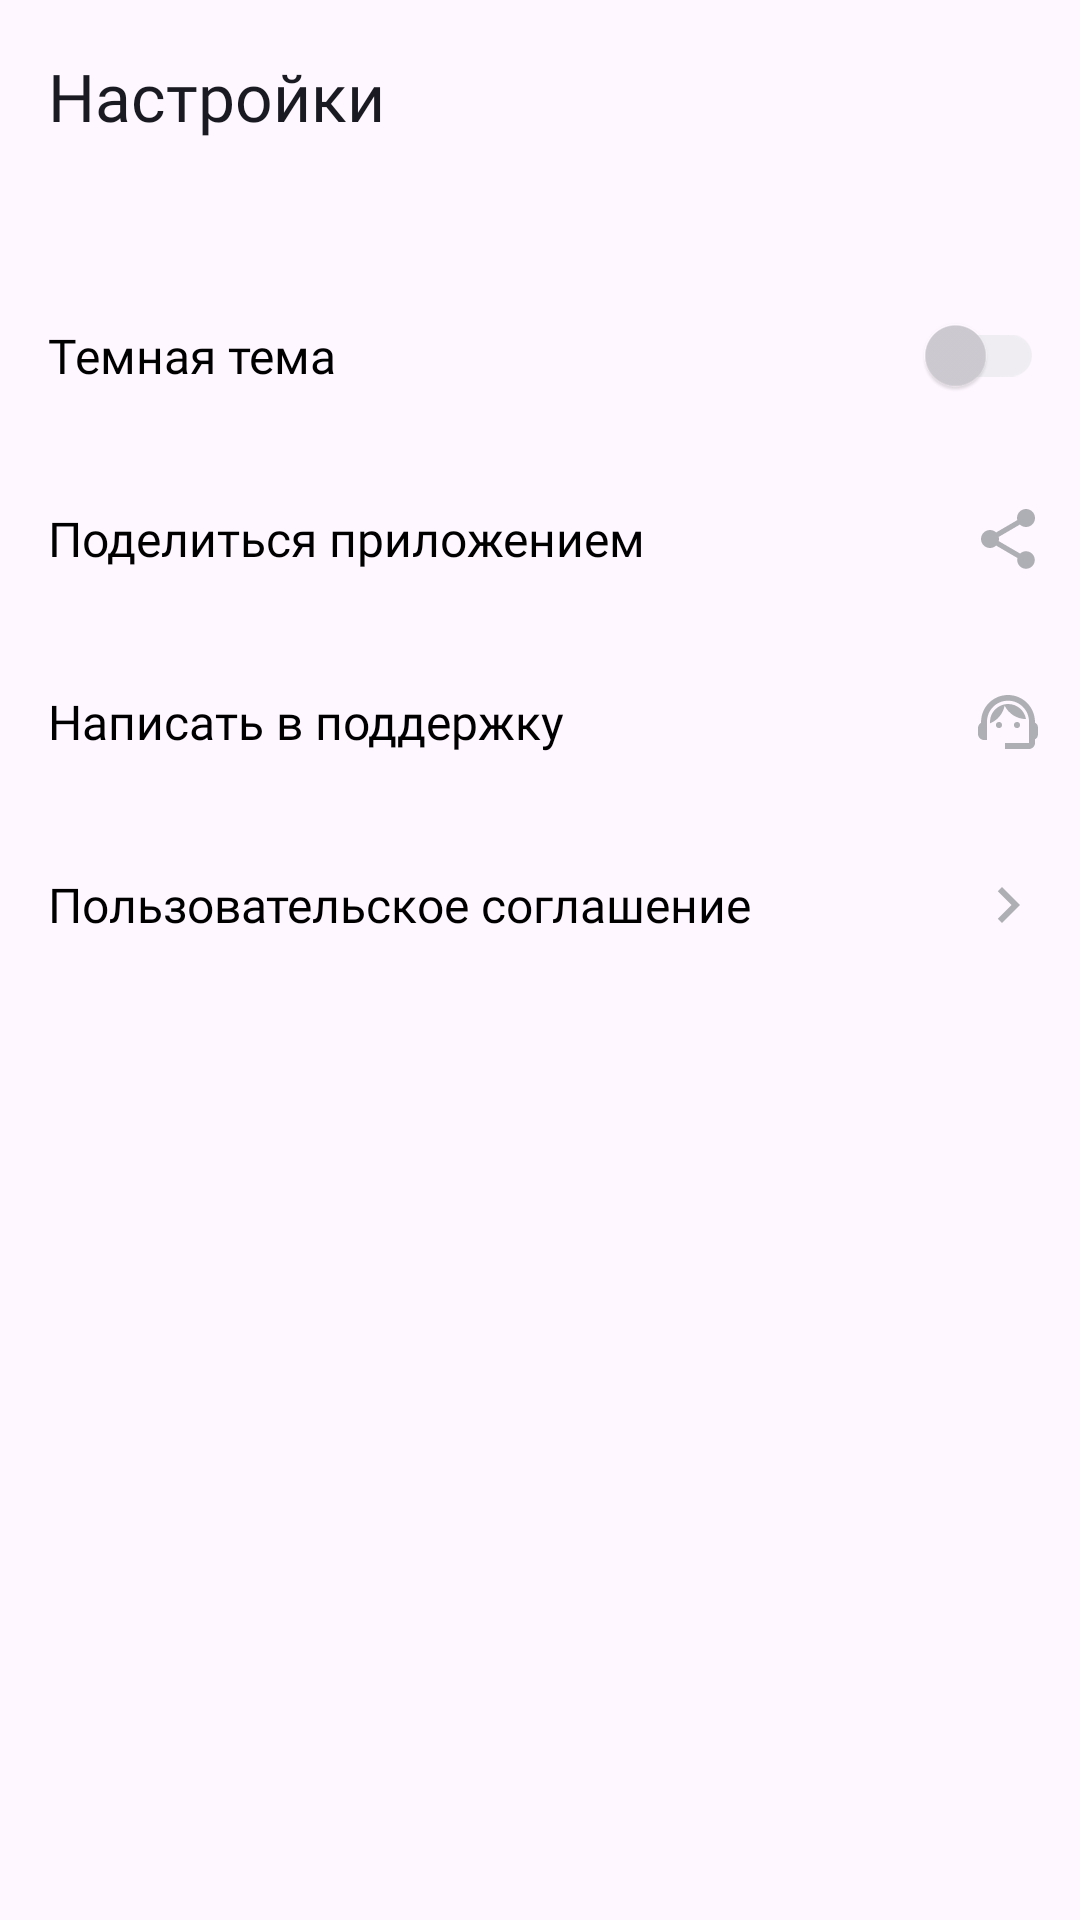

Where to tap for icons on this 1080 × 1920 app screen, as point (x, y):
next: point (1009, 905)
share: point (1008, 539)
support: point (1008, 722)
